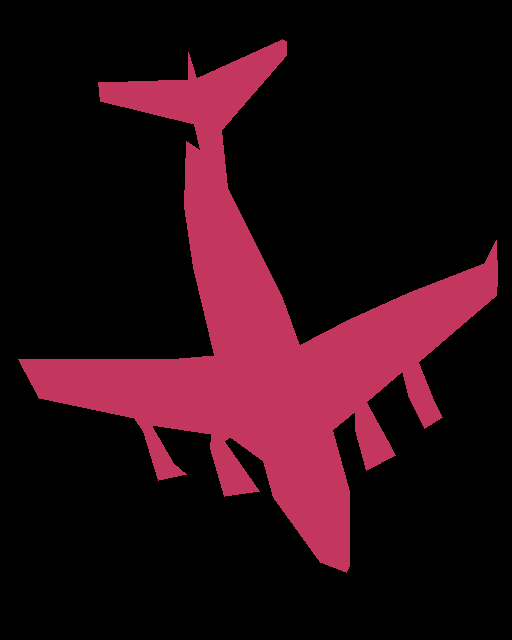Airplane: (18, 39, 498, 572)
